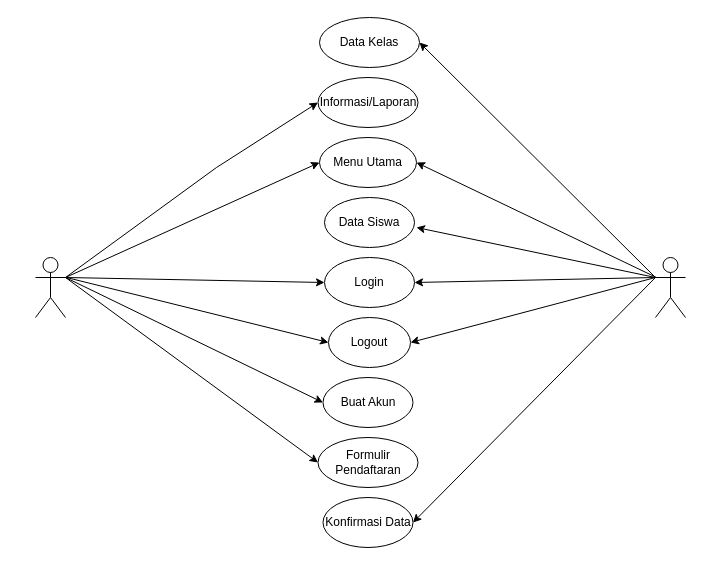
This 705x565 diagram has some shape labels left out. Here are the shapes that lost their labels. From the top down, the centre of each, then its label:
At point (50, 287): "Calon Siswa".
At point (670, 287): "Admin".
